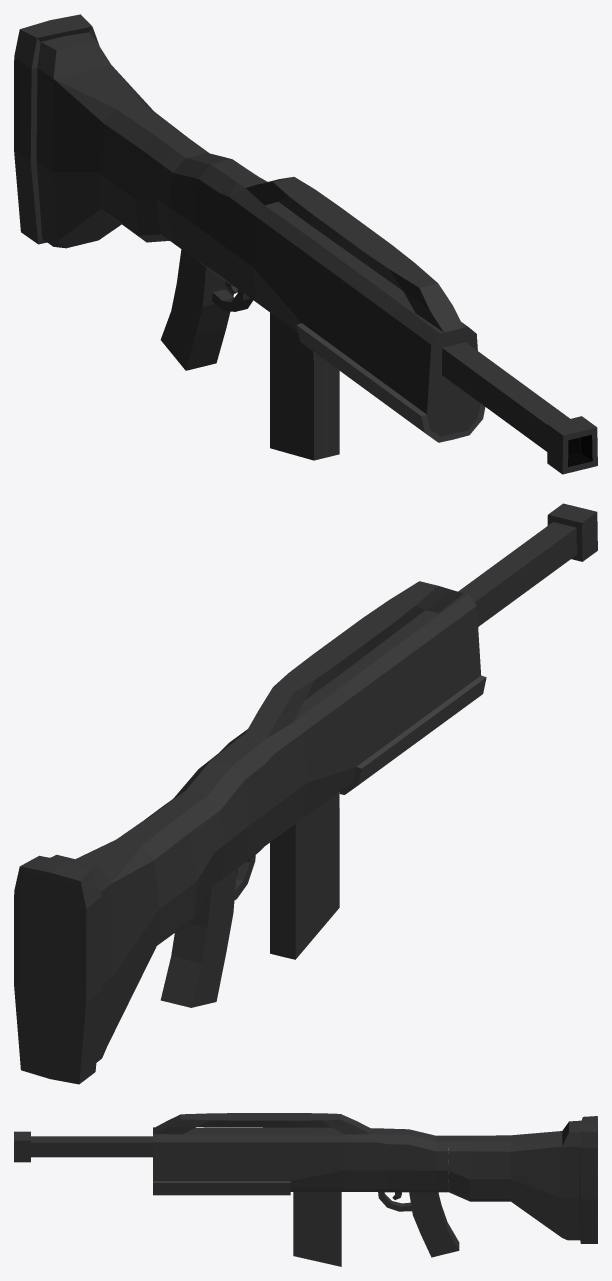
Rendered from Burst_Rifle.fbx.
3 views of the same model, one above another, from view 1: azimuth 30°, elevation 25°; view 2: azimuth 150°, elevation 25°; view 3: azimuth 270°, elevation 25° (orthographic). The views are drawn at different scales.
Parts seen in each view (by area): view 1: Burst Rifle; view 2: Burst Rifle; view 3: Burst Rifle.
Boxes of the visible parts, bbox=[...] form: Burst Rifle: bbox=[14, 14, 597, 474]; Burst Rifle: bbox=[14, 503, 597, 1084]; Burst Rifle: bbox=[14, 1113, 597, 1266].
Size of the model in its own units: 72.04 by 253 by 914.
